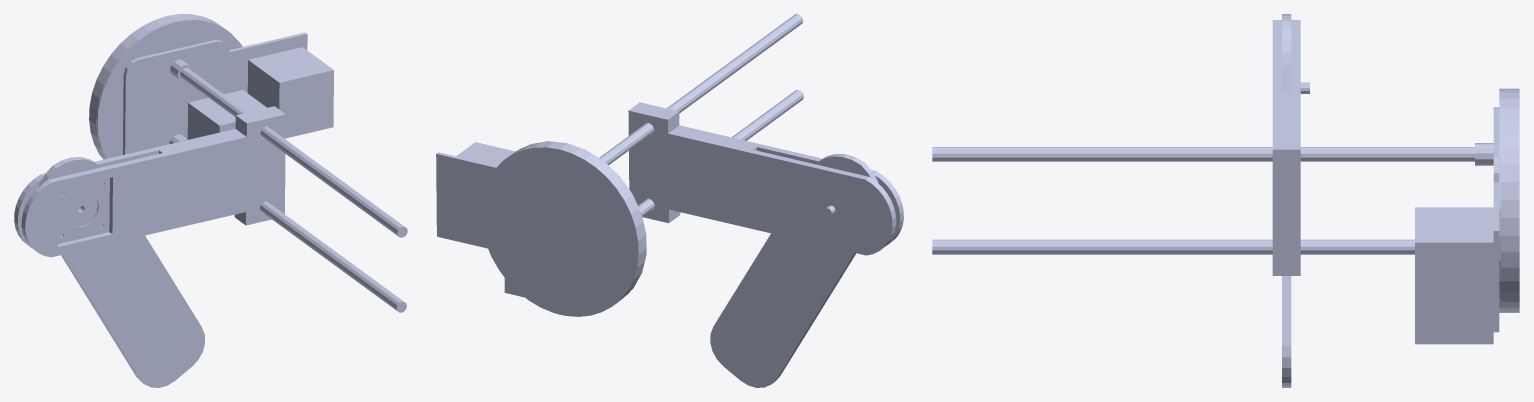
The model's file is scara.dae.
3 views of the same model, side by side, from view 1: azimuth 30°, elevation 25°; view 2: azimuth 150°, elevation 25°; view 3: azimuth 270°, elevation 25° (orthographic). The views are drawn at different scales.
Parts seen in each view (by area): view 1: link1, link2, link3, base_link; view 2: link2, base_link, link3, link1; view 3: link1, link2, base_link, link3.
Boxes of the visible parts, x1,y1,x2,y2 form: link1: (97,19,407,312); link2: (14,106,285,257); link3: (39,157,204,387); base_link: (89,14,234,159); link2: (628,102,903,255); base_link: (481,142,646,316); link3: (710,154,878,387); link1: (436,14,803,297); link1: (932,88,1500,344); link2: (1272,20,1300,275); base_link: (1501,88,1519,312); link3: (1282,14,1309,387).
Size of the model in its own units: 0.2855 by 0.314 by 0.2041.
